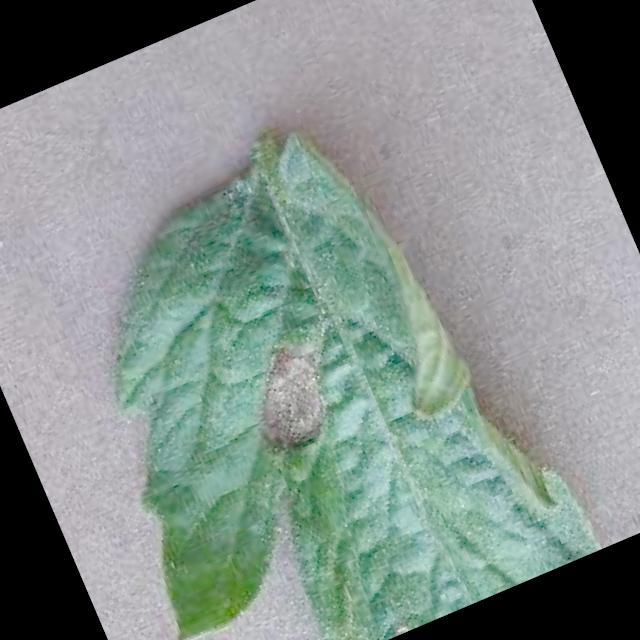Tomato Early blight leaf: (13, 81, 604, 640)
